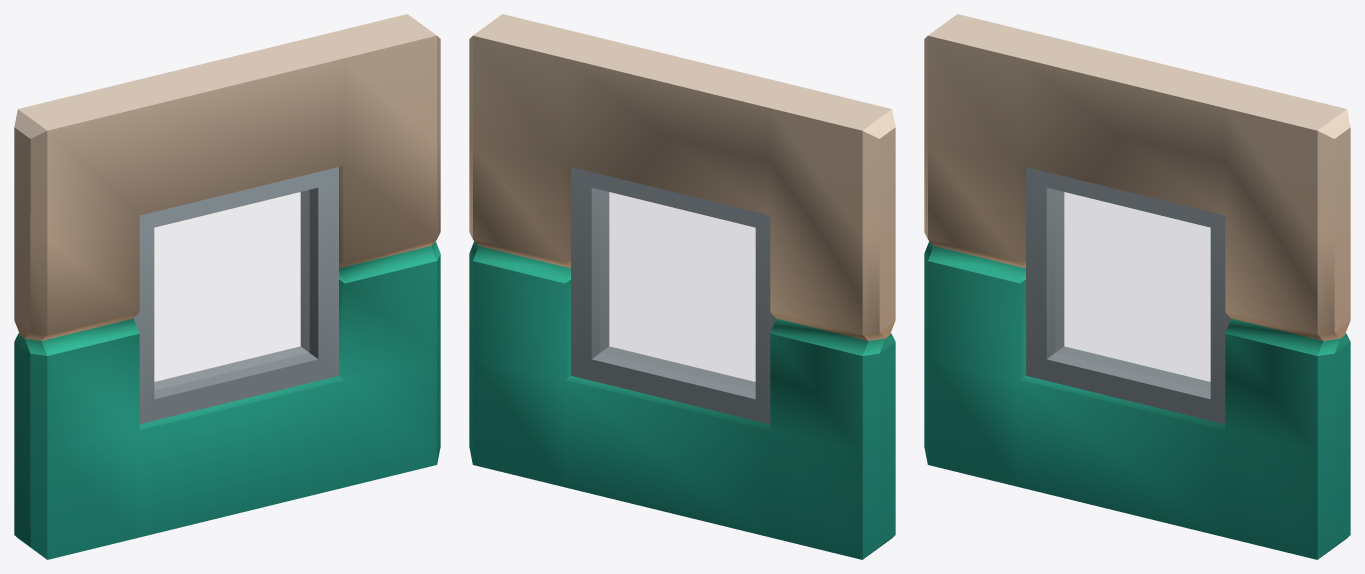
The model's file is wall_window_open.gltf.
3 views of the same model, side by side, from view 1: azimuth 30°, elevation 25°; view 2: azimuth 150°, elevation 25°; view 3: azimuth 330°, elevation 25° (orthographic).
Parts seen in each view (by area): view 1: wall_window_open, Plane; view 2: wall_window_open, Plane; view 3: wall_window_open, Plane.
Boxes of the visible parts, box(x1,y1,x2,y2) form: wall_window_open: box(14, 14, 440, 559); Plane: box(154, 190, 309, 389); wall_window_open: box(469, 14, 895, 559); Plane: box(600, 190, 755, 389); wall_window_open: box(924, 14, 1350, 559); Plane: box(1055, 190, 1210, 389).
Size of the model in its own units: 4 by 4 by 0.5.
2 materials, 1 textured.
